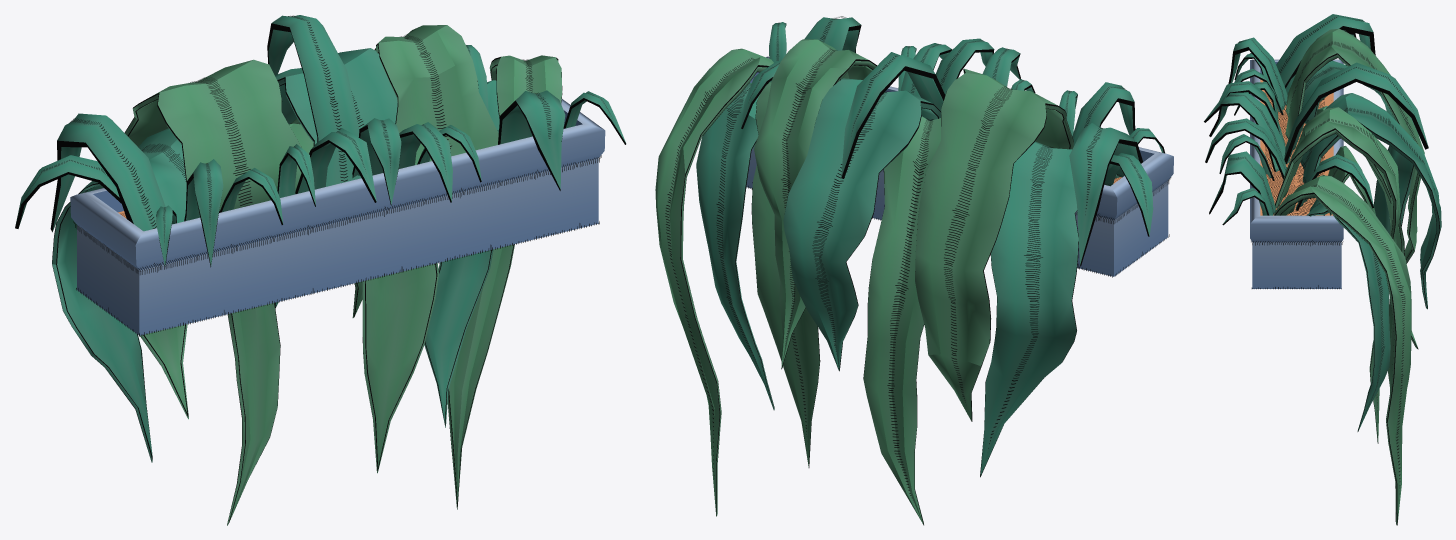
The model's file is FlowerPot_Large_02.glb.
The picture shows the model from 3 angles, left to right: view 1: azimuth 30°, elevation 25°; view 2: azimuth 150°, elevation 25°; view 3: azimuth 270°, elevation 25°; orthographic projection. The views are drawn at different scales.
Visible parts, largest first — view 1: FlowerPot_Large_02; view 2: FlowerPot_Large_02; view 3: FlowerPot_Large_02.
Boxes of the visible parts, <box> form: FlowerPot_Large_02: <box>15,15,626,525</box>; FlowerPot_Large_02: <box>655,16,1173,525</box>; FlowerPot_Large_02: <box>1204,14,1441,525</box>.
Bounding box in the file's own units: 4.03 × 3.93 × 2.13.
3 materials, 3 textured.
